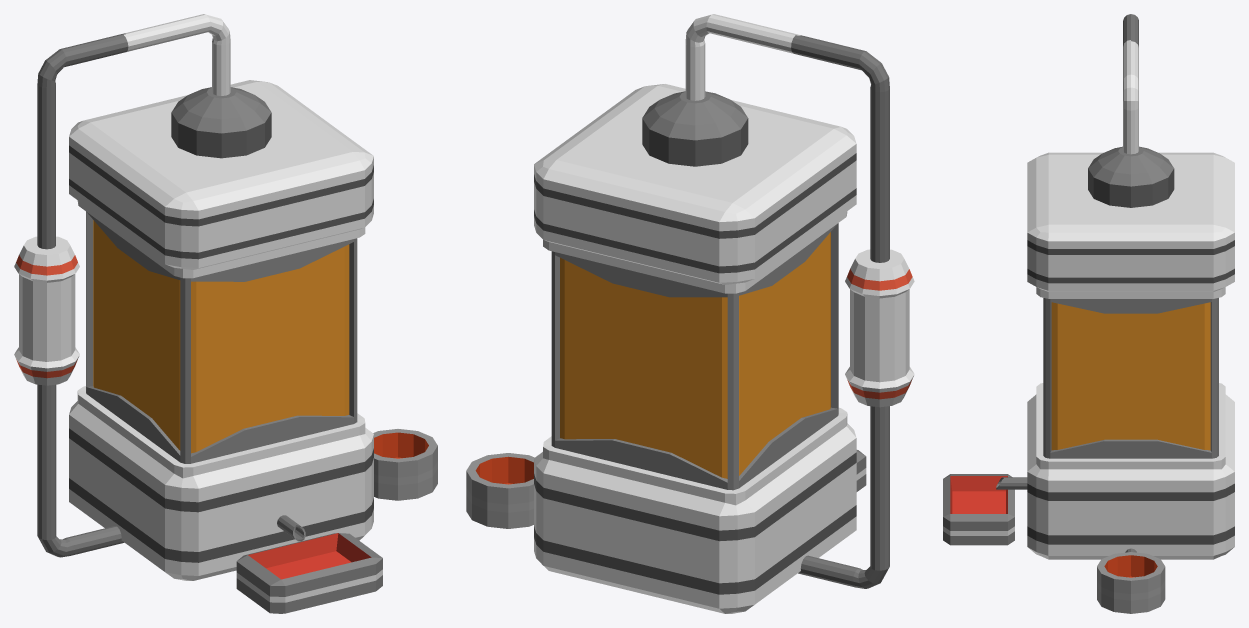
The model's file is Water Extractor.fbx.
3 views of the same model, side by side, from view 1: azimuth 30°, elevation 25°; view 2: azimuth 150°, elevation 25°; view 3: azimuth 270°, elevation 25° (orthographic). The views are drawn at different scales.
Visible parts, largest first — view 1: Cylinder.040, Cylinder.034; view 2: Cylinder.040, Cylinder.034; view 3: Cylinder.040.
Boxes of the visible parts, x1,y1,x2,y2 form: Cylinder.040: (37,14,437,613); Cylinder.034: (14,236,79,385); Cylinder.040: (466,14,889,613); Cylinder.034: (845,249,914,407); Cylinder.040: (943,14,1234,613).
Bounding box in the file's own units: 702 × 836 × 498.
